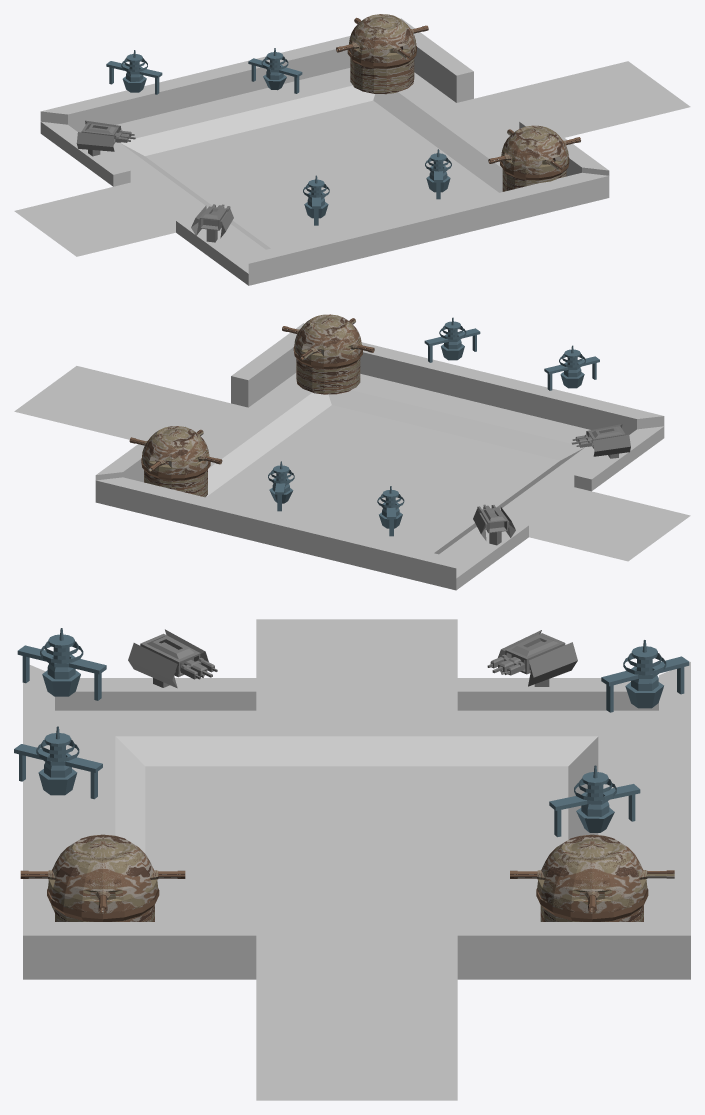
Rendered from BattleField.fbx.
3 views of the same model, one above another, from view 1: azimuth 30°, elevation 25°; view 2: azimuth 150°, elevation 25°; view 3: azimuth 270°, elevation 25° (orthographic). The views are drawn at different scales.
Parts seen in each view (by area): view 1: Ground, Border, sceneObjects; view 2: Ground, Border, sceneObjects; view 3: Ground, Border, sceneObjects.
Part boxes in pixels (bbox=[...]): Ground: bbox=[14, 61, 690, 258]; Border: bbox=[40, 18, 609, 285]; sceneObjects: bbox=[76, 14, 580, 242]; Ground: bbox=[14, 366, 690, 563]; Border: bbox=[95, 323, 664, 590]; sceneObjects: bbox=[129, 314, 630, 545]; Ground: bbox=[55, 619, 658, 1100]; Border: bbox=[23, 662, 690, 979]; sceneObjects: bbox=[14, 628, 689, 921].
Size of the model in its own units: 1307 by 2198 by 317.
